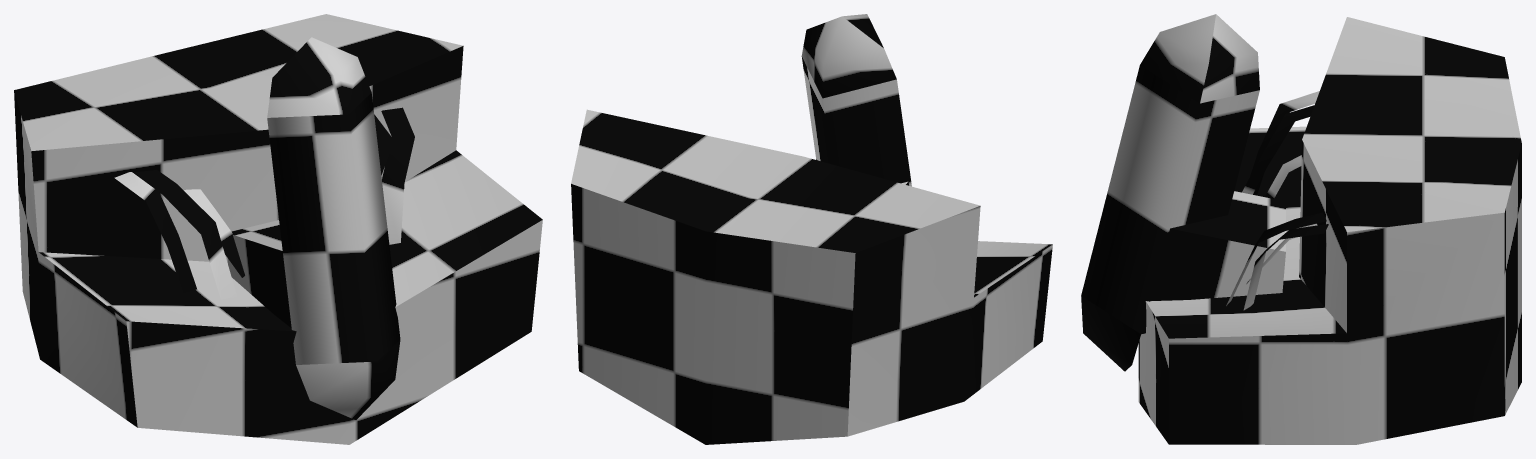
The model's file is damage_module.obj.
The picture shows the model from 3 angles, left to right: view 1: azimuth 30°, elevation 25°; view 2: azimuth 150°, elevation 25°; view 3: azimuth 270°, elevation 25°; orthographic projection. The views are drawn at different scales.
Parts seen in each view (by area): view 1: cbs_module_damage; view 2: cbs_module_damage; view 3: cbs_module_damage.
Boxes of the visible parts, x1,y1,x2,y2 form: cbs_module_damage: [14, 14, 542, 444]; cbs_module_damage: [571, 14, 1052, 444]; cbs_module_damage: [1081, 14, 1521, 444].
Size of the model in its own units: 125 by 105 by 108.
1 material, 1 textured.
